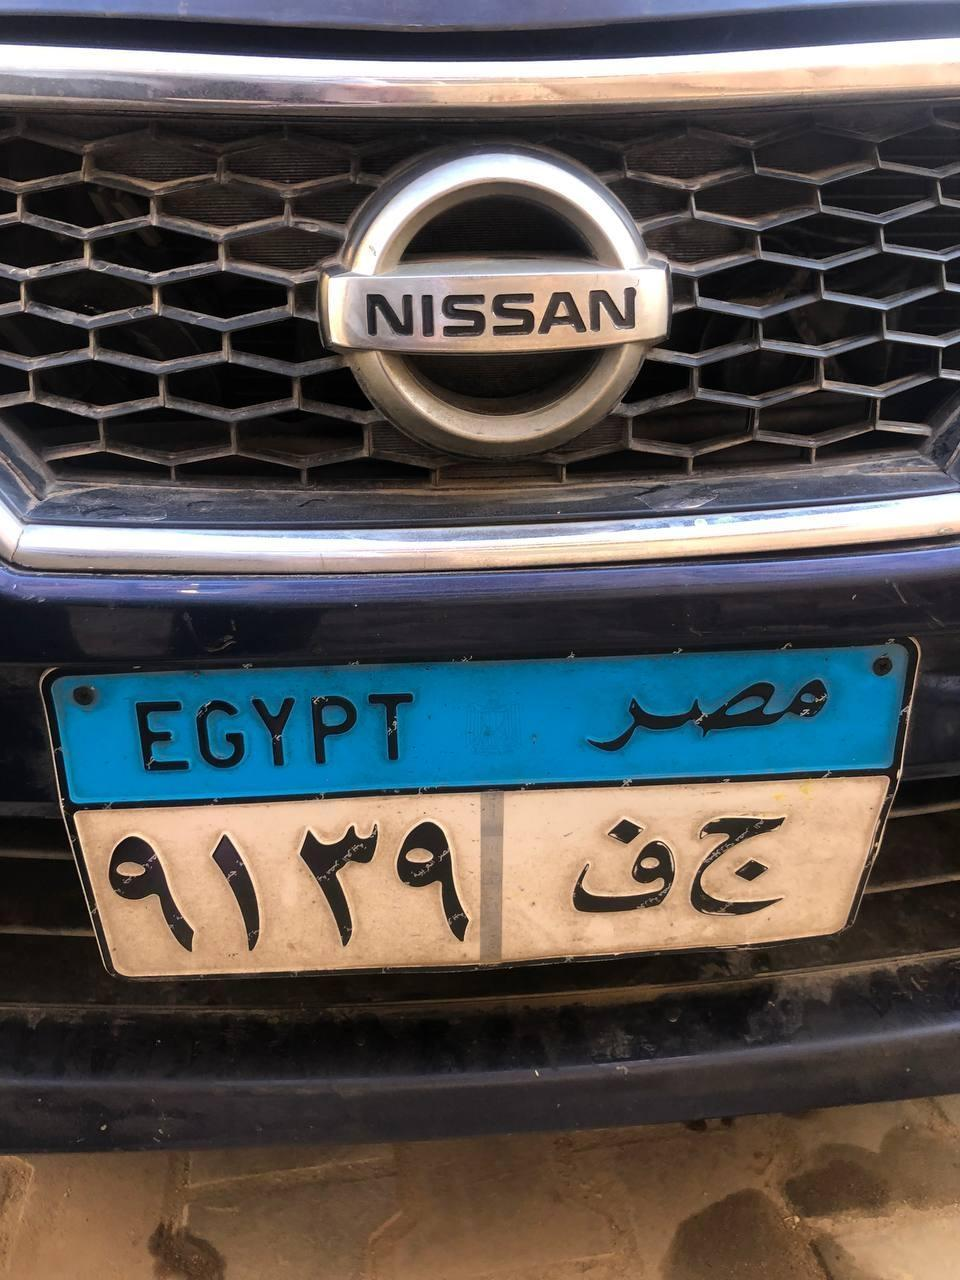1: (196, 829, 272, 954)
3: (288, 808, 379, 952)
9: (104, 827, 210, 958), (390, 821, 479, 946)
F: (569, 800, 678, 913)
License Plate: (37, 634, 923, 984)
geem: (692, 808, 804, 922)
